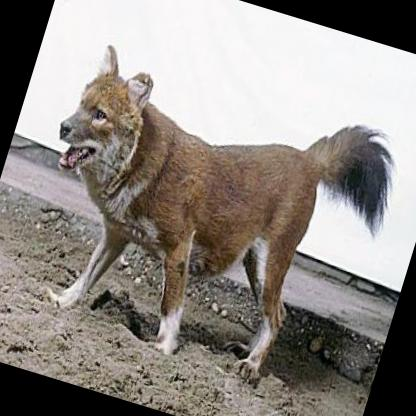dhole: (3, 33, 408, 403)
